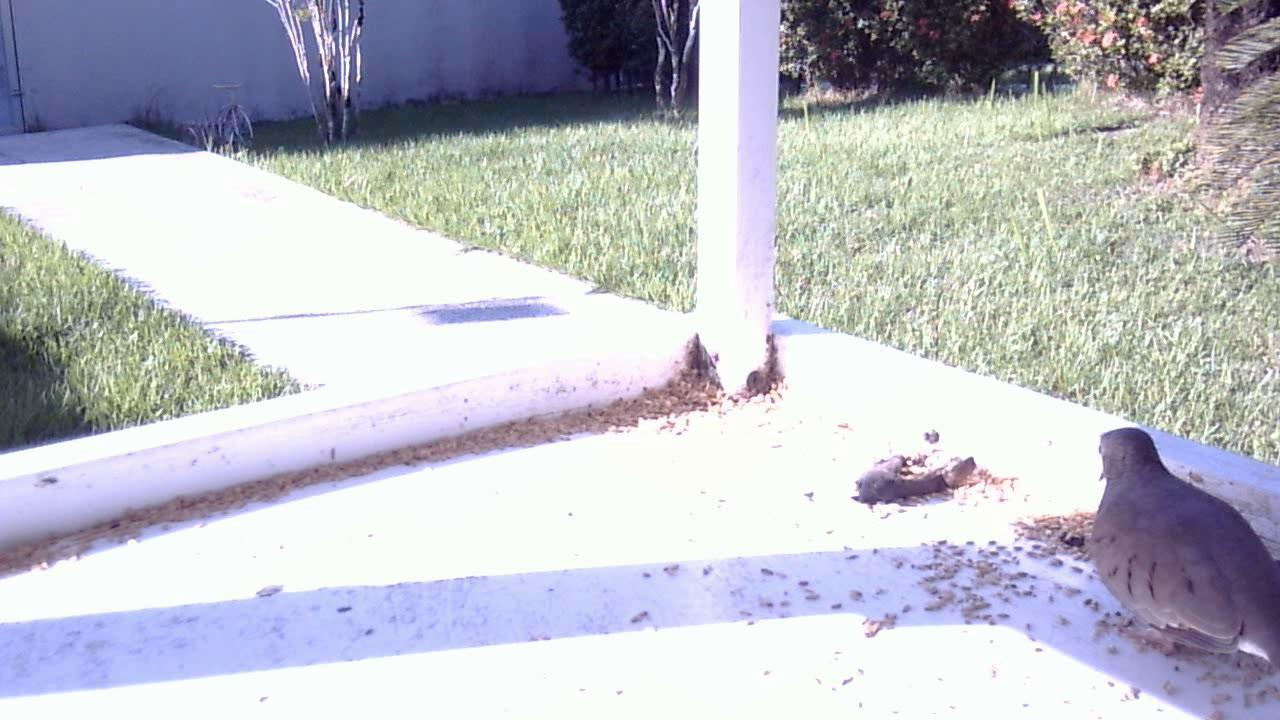rolinha: (1070, 423, 1276, 679)
